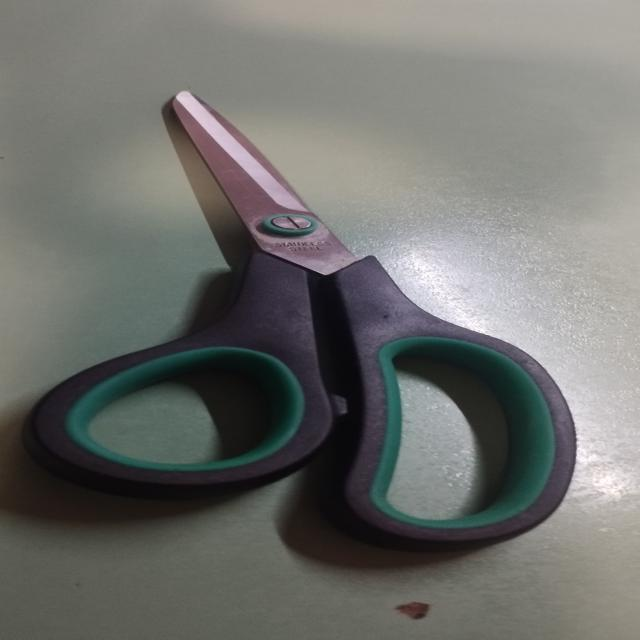tesoura: (5, 82, 588, 555)
